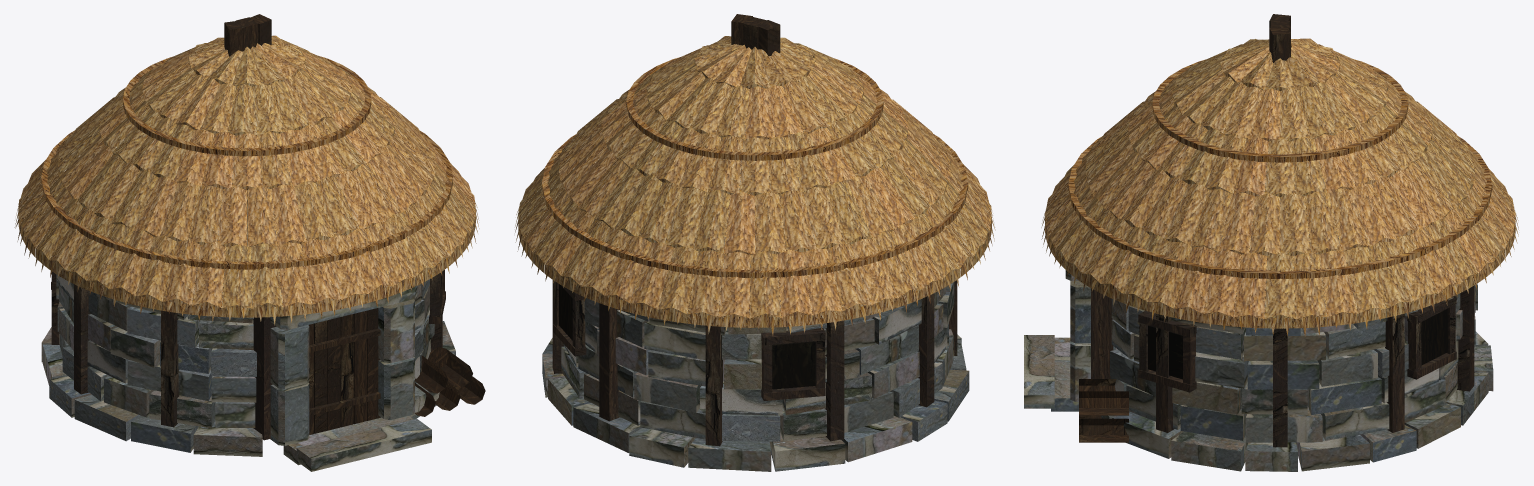
File: roundhouse.glb
The picture shows the model from 3 angles, left to right: view 1: azimuth 30°, elevation 25°; view 2: azimuth 150°, elevation 25°; view 3: azimuth 270°, elevation 25°; orthographic projection. The views are drawn at different scales.
Visible parts, largest first — view 1: R57_Thatch.001, R57_Granite.001, R57_Timber.001; view 2: R57_Thatch.001, R57_Granite.001, R57_Timber.001; view 3: R57_Thatch.001, R57_Granite.001, R57_Timber.001.
Boxes of the visible parts, x1,y1,x2,y2 form: R57_Thatch.001: [14, 35, 479, 325]; R57_Granite.001: [41, 156, 455, 471]; R57_Timber.001: [51, 14, 485, 440]; R57_Thatch.001: [515, 36, 995, 335]; R57_Granite.001: [542, 131, 969, 471]; R57_Timber.001: [552, 14, 957, 446]; R57_Thatch.001: [1041, 38, 1518, 336]; R57_Granite.001: [1024, 163, 1493, 471]; R57_Timber.001: [1079, 14, 1474, 447].
Bounding box in the file's own units: 5.19 × 4.28 × 5.37.
3 materials, 3 textured.
